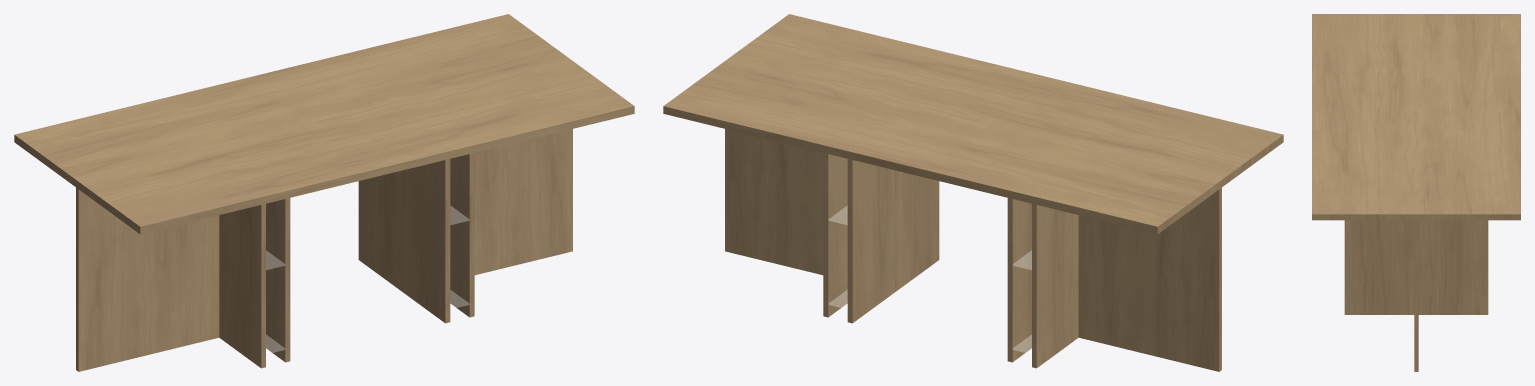
File: BF_want3.glb
3 views of the same model, side by side, from view 1: azimuth 30°, elevation 25°; view 2: azimuth 150°, elevation 25°; view 3: azimuth 270°, elevation 25° (orthographic). The views are drawn at different scales.
Parts seen in each view (by area): view 1: BF_want3.model, BF_want3glass.model; view 2: BF_want3.model, BF_want3glass.model; view 3: BF_want3.model.
Boxes of the visible parts, box(x1,y1,x2,y2) form: BF_want3.model: box(14, 14, 634, 371); BF_want3glass.model: box(266, 206, 469, 353); BF_want3.model: box(663, 14, 1283, 371); BF_want3glass.model: box(828, 206, 1031, 353); BF_want3.model: box(1312, 14, 1520, 371).
Size of the model in its own units: 20.4 by 7.5 by 9.
2 materials, 2 textured.
